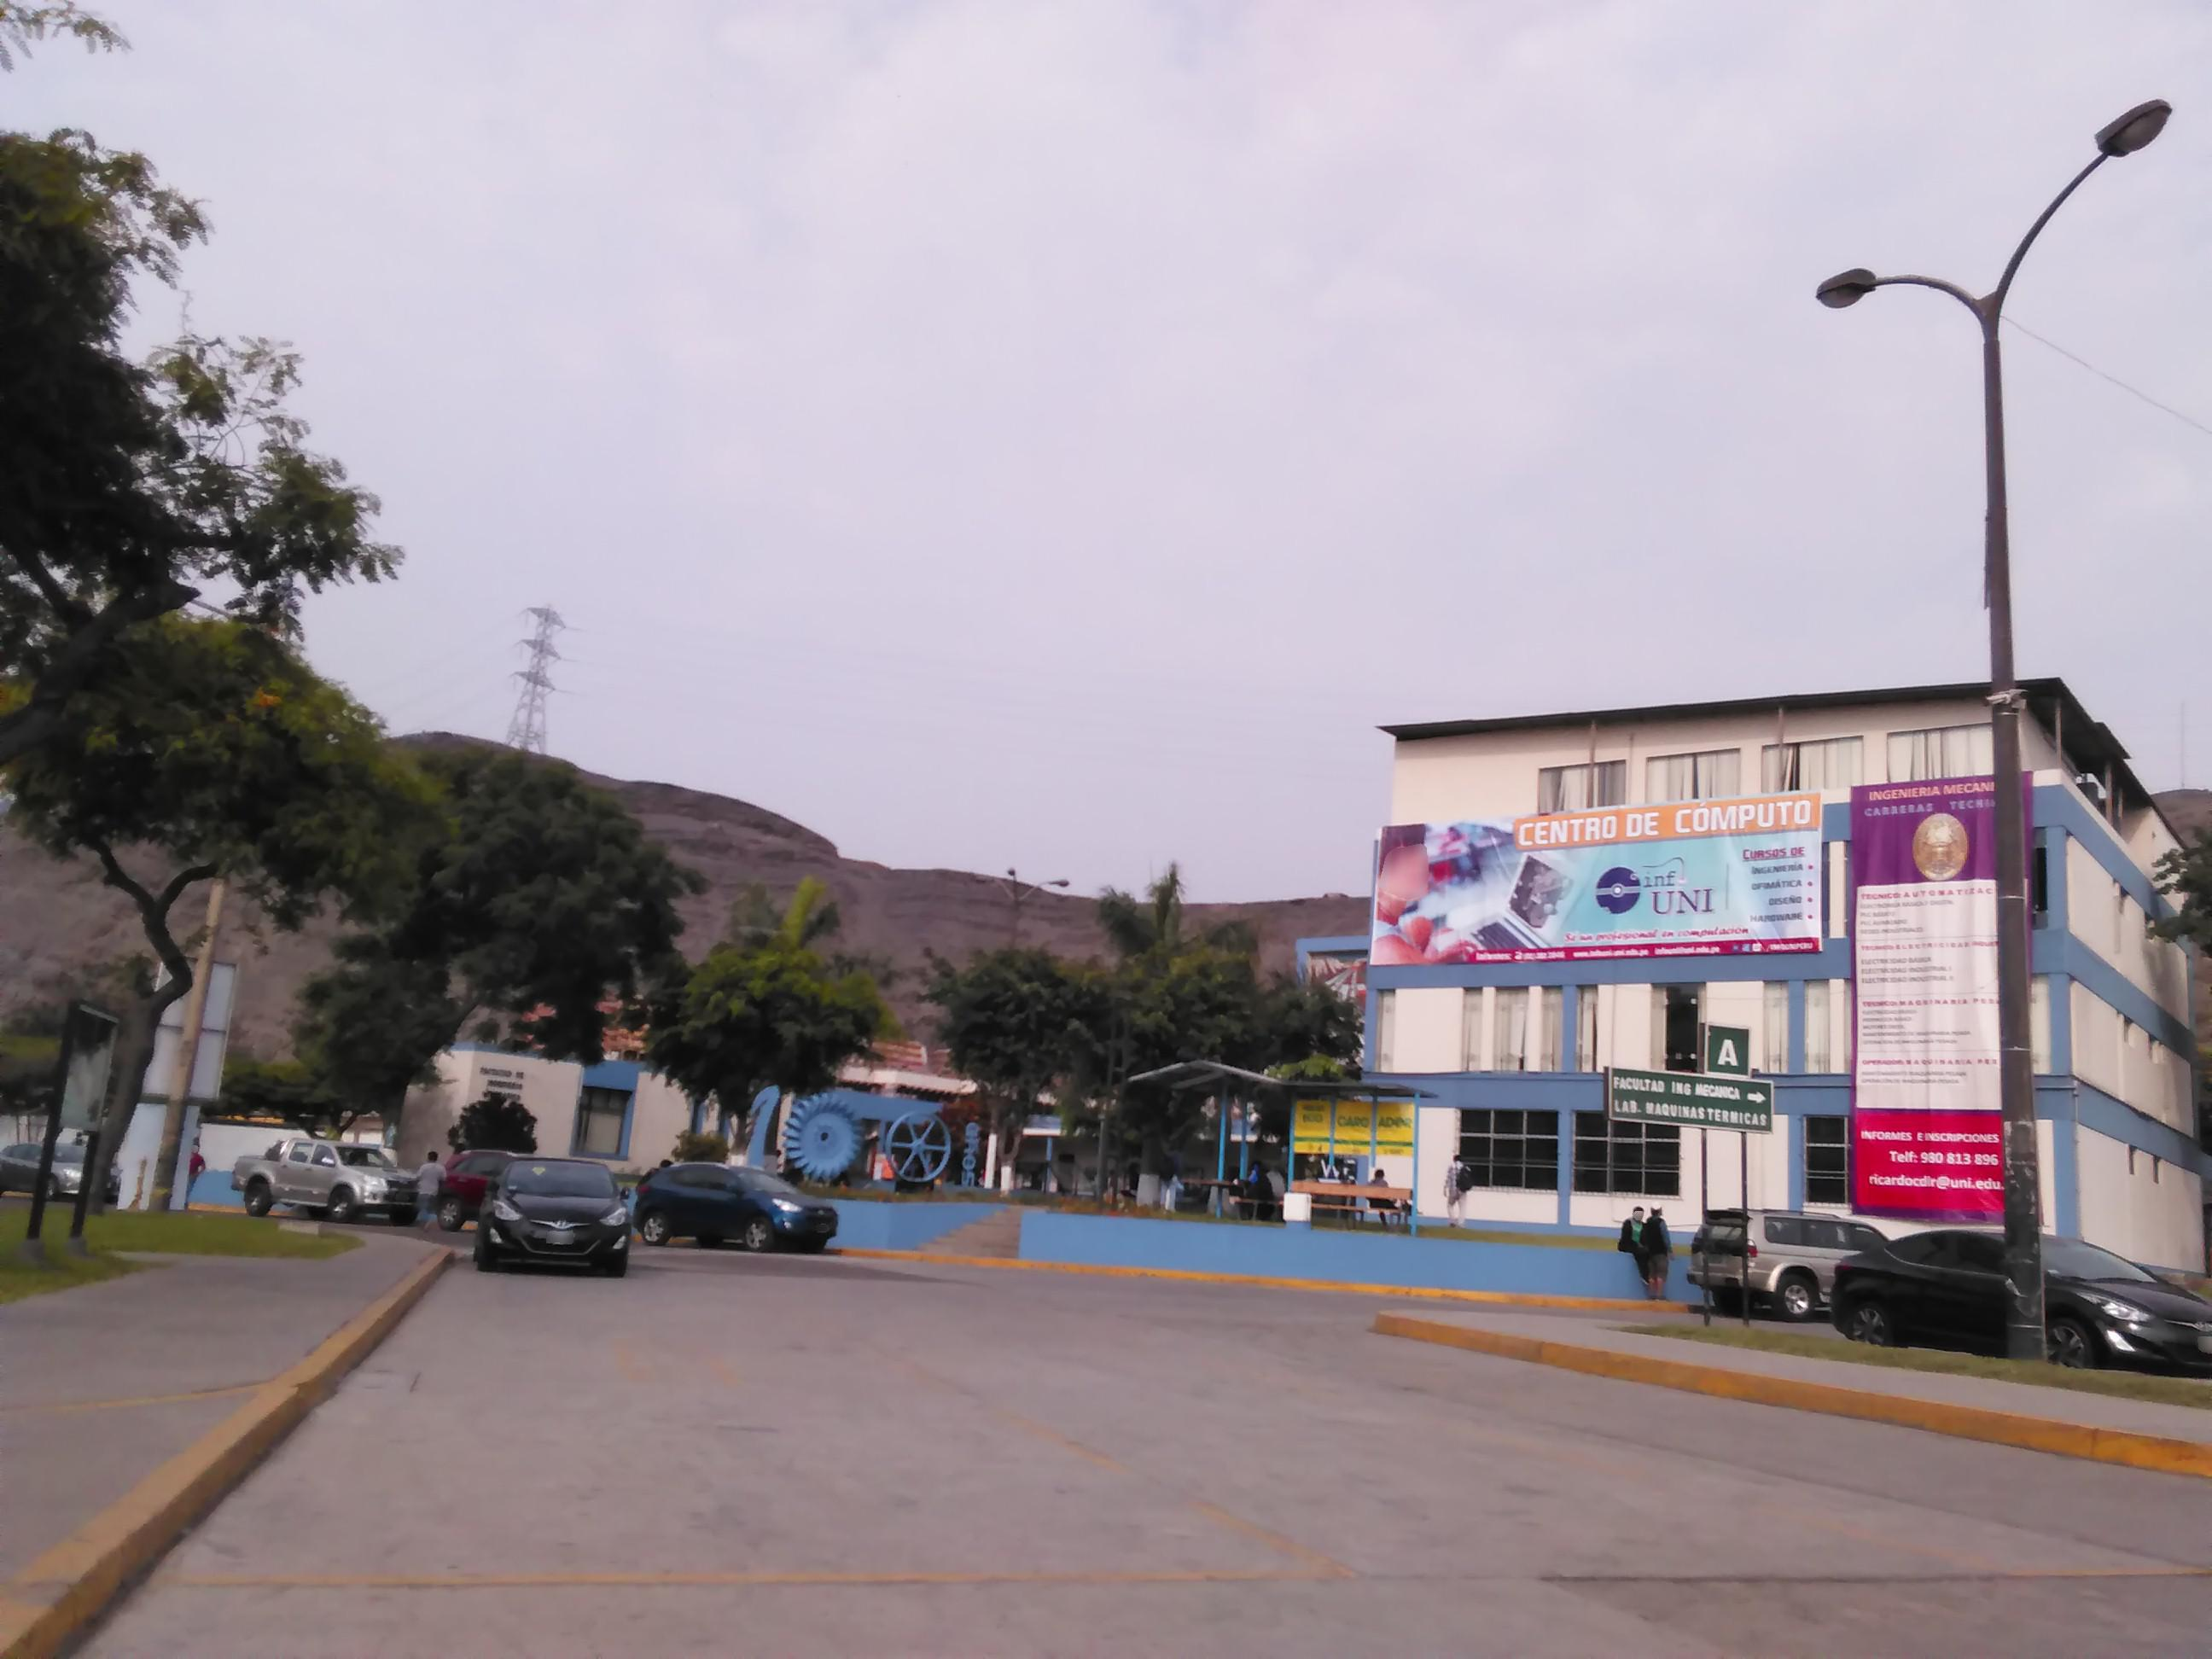vinyl banner: (1862, 758, 2047, 1248), (1350, 788, 1831, 967)
